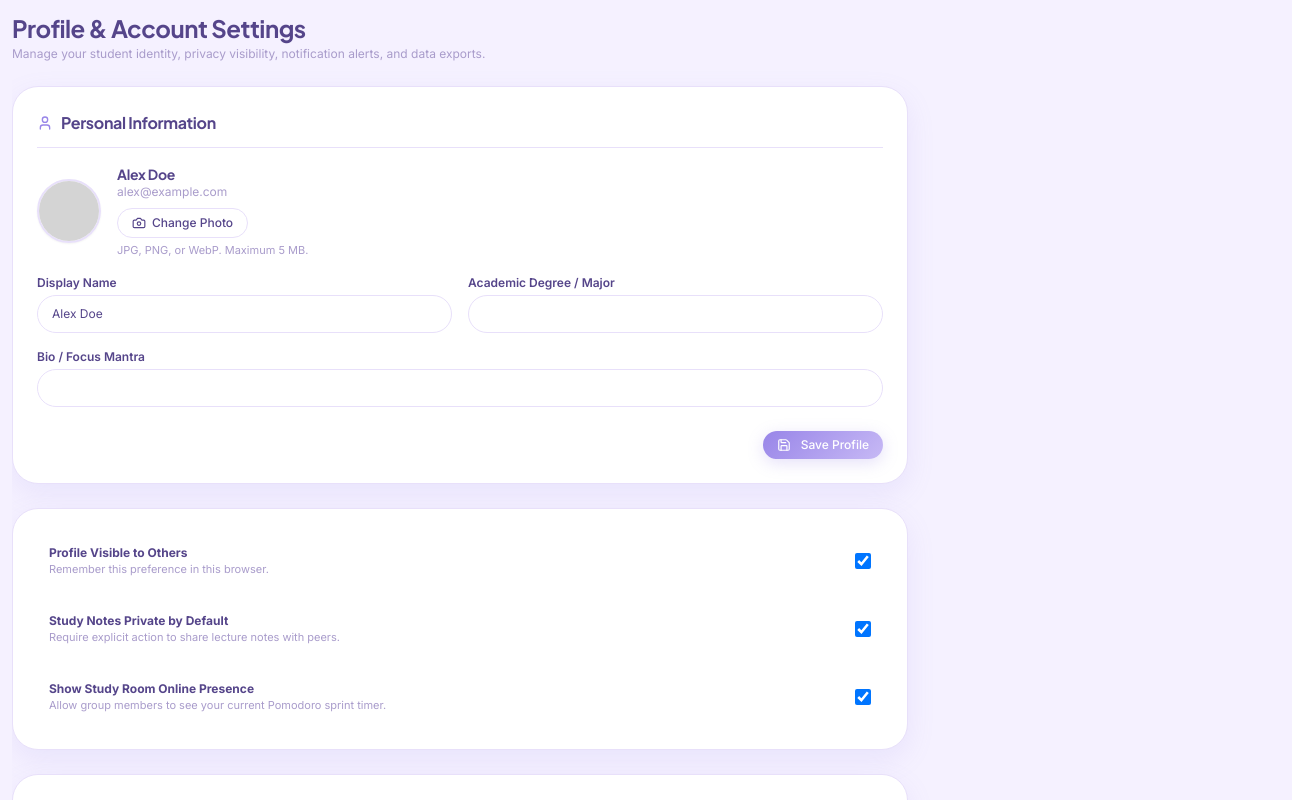
Test: profile photo settings › shows an inline error when saving profile details fails
Click the button "Save Profile": (823,444) [763,430,883,458]
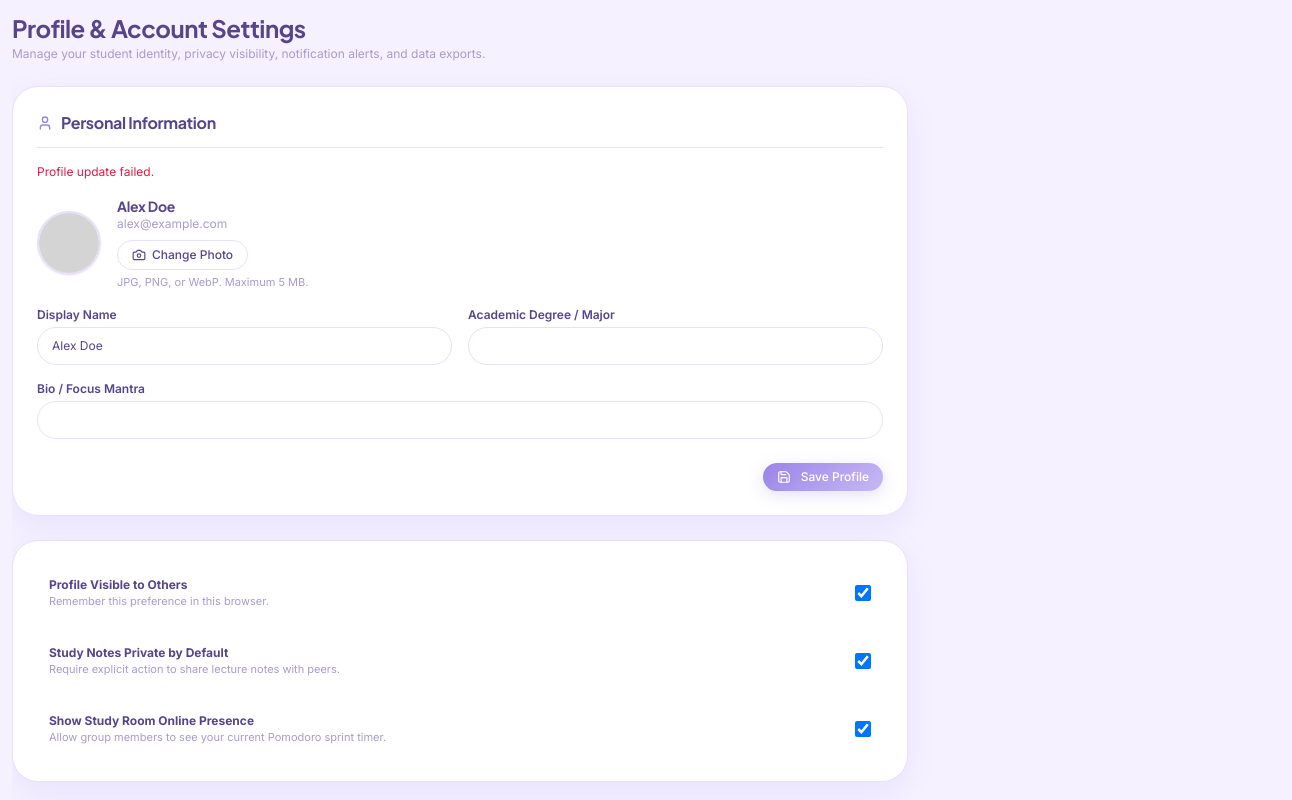
Expected: the message reads "Profile update failed.", [37,164,154,179]
